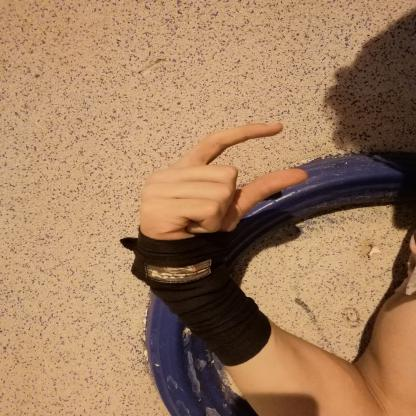DELL: (123, 114, 317, 280)
